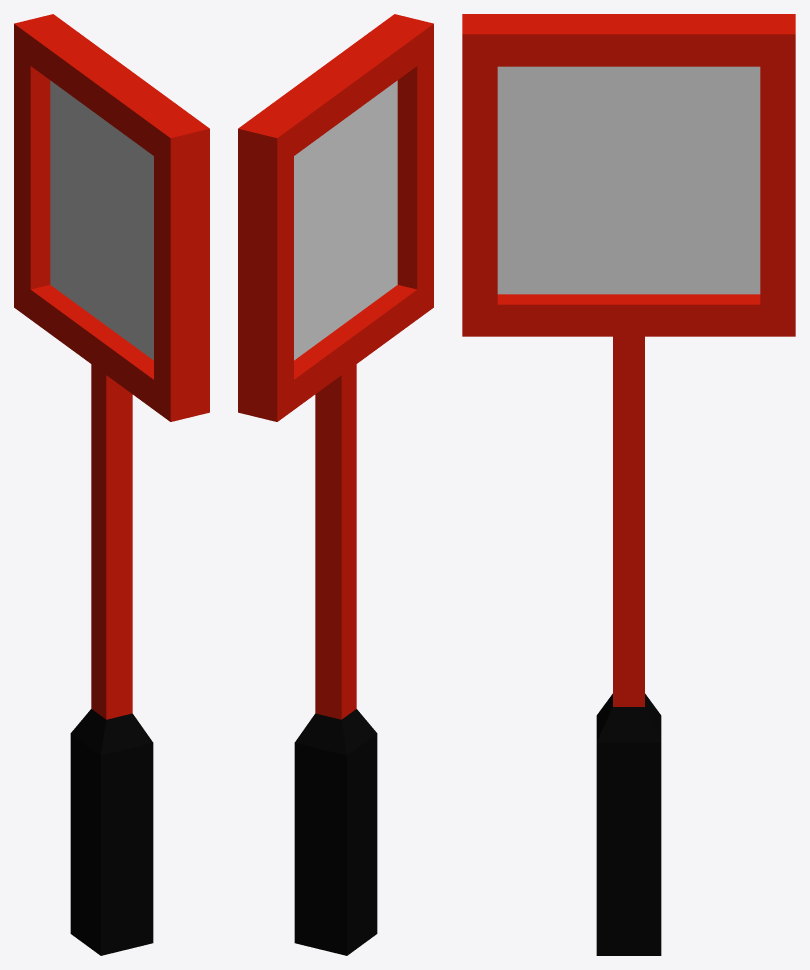
Rendered from square_racket_new.fbx.
3 views of the same model, side by side, from view 1: azimuth 30°, elevation 25°; view 2: azimuth 150°, elevation 25°; view 3: azimuth 270°, elevation 25° (orthographic). The views are drawn at different scales.
Visible parts, largest first — view 1: Head, Net, Handle, Neck; view 2: Head, Net, Handle, Neck; view 3: Net, Head, Handle, Neck.
Part boxes in pixels (x1,y1,x2,y2): Head: (14, 14, 209, 421); Net: (50, 80, 153, 360); Handle: (70, 709, 153, 955); Neck: (91, 364, 132, 719); Head: (238, 14, 433, 421); Net: (294, 80, 397, 360); Handle: (294, 709, 377, 955); Neck: (315, 364, 356, 719); Net: (497, 66, 760, 294); Head: (462, 14, 795, 336); Handle: (596, 693, 661, 955); Neck: (613, 336, 644, 706).
Bounding box in the file's own units: 200 × 3141 × 1034.
